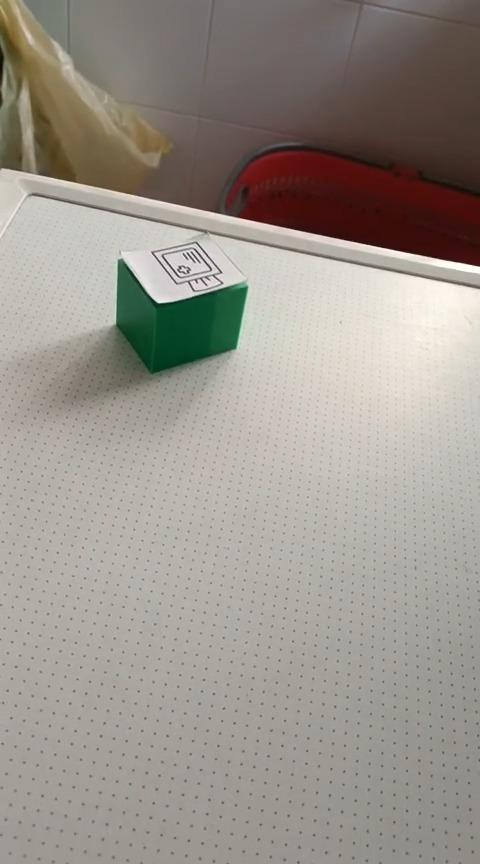Gauze: (114, 230, 249, 374)
